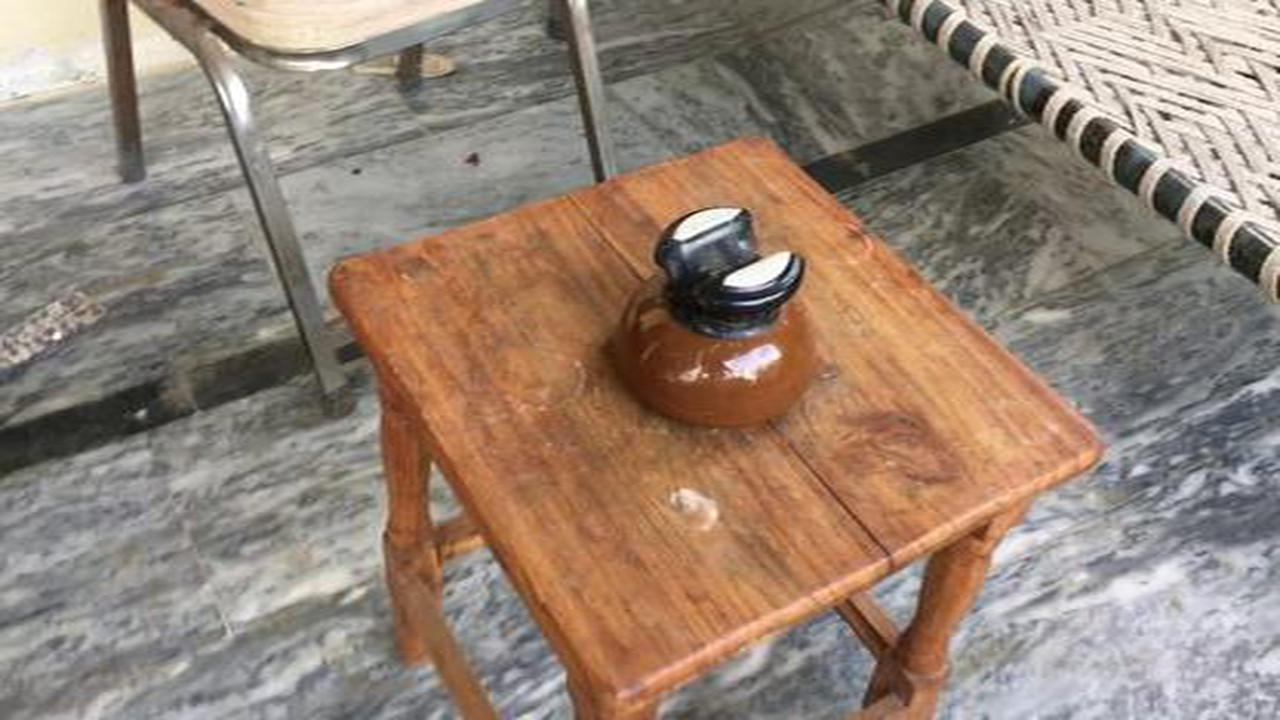insulator_pin: (597, 193, 828, 452)
